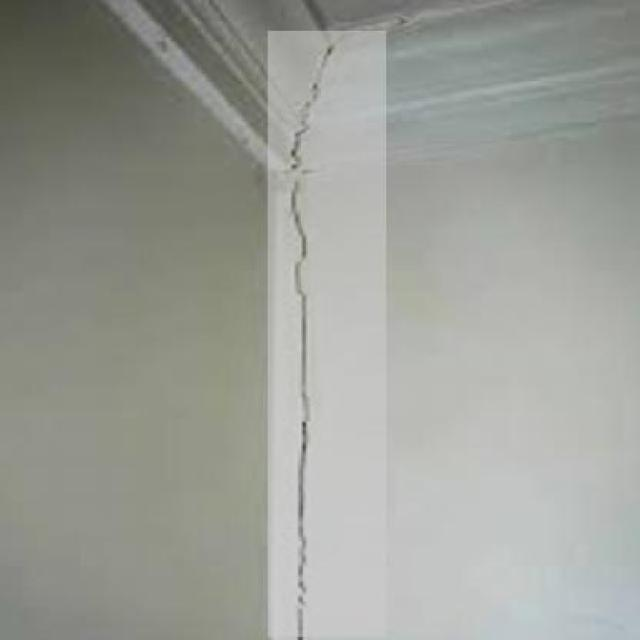Crack: (267, 32, 350, 638)
